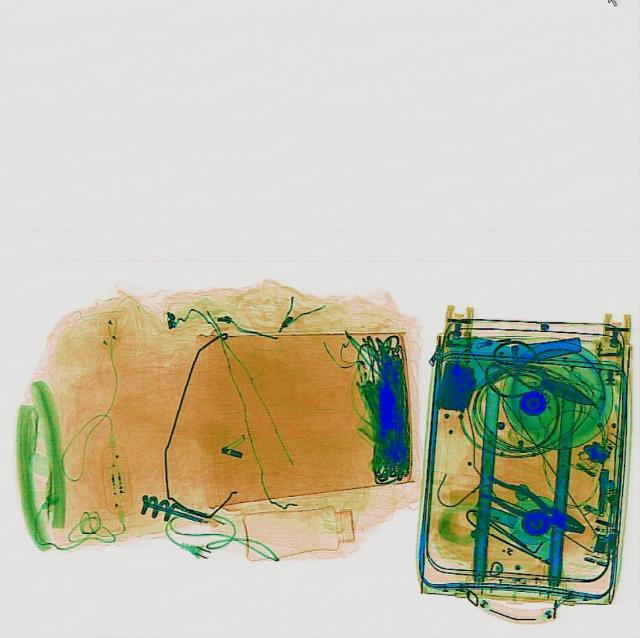Pliers: (472, 469, 590, 542)
Scissors: (474, 330, 606, 425)
